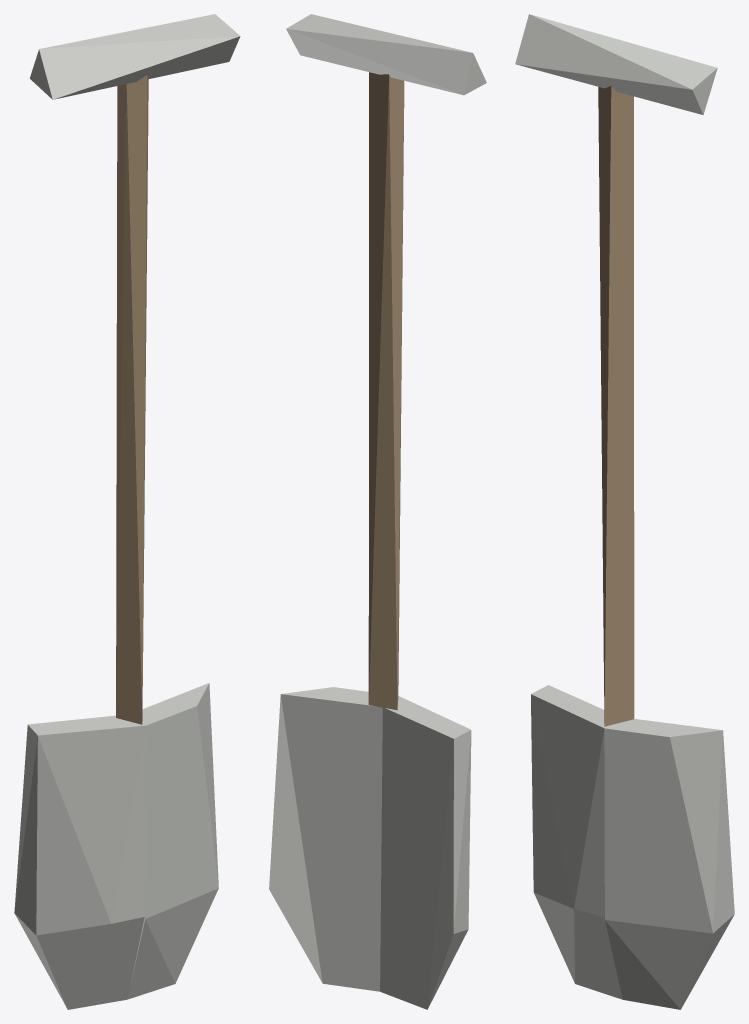
The model's file is StoneShovel.glb.
3 views of the same model, side by side, from view 1: azimuth 30°, elevation 25°; view 2: azimuth 150°, elevation 25°; view 3: azimuth 330°, elevation 25° (orthographic).
Parts seen in each view (by area): view 1: Pelle, Manche, Pommeau; view 2: Pelle, Manche, Pommeau; view 3: Pelle, Manche, Pommeau.
Part boxes in pixels (x1,y1,x2,y2): Pelle: (14,683,218,1009); Manche: (116,75,148,724); Pommeau: (29,14,240,99); Pelle: (269,687,471,1009); Manche: (368,72,404,710); Pommeau: (286,14,486,95); Pelle: (531,685,734,1009); Manche: (598,86,634,726); Pommeau: (515,14,717,115).
Size of the model in its own units: 0.2047 by 1.02 by 0.0767.
